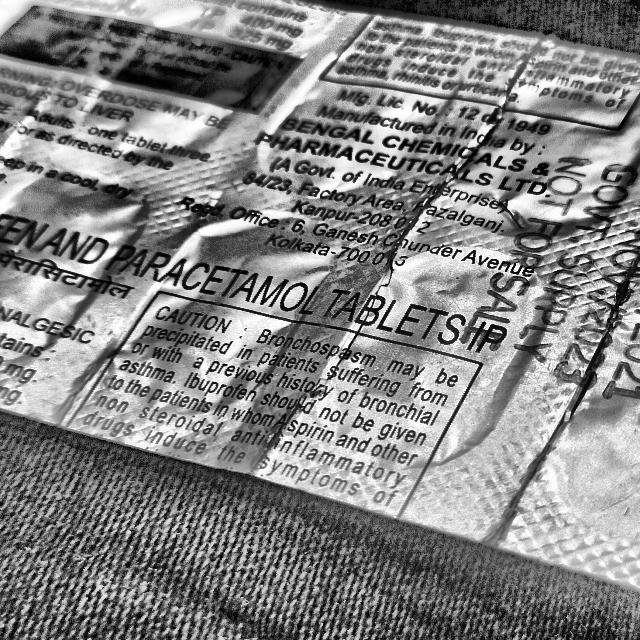IBUPROFEN AND PARACETAMOL TABLETS: (0, 191, 507, 382)
